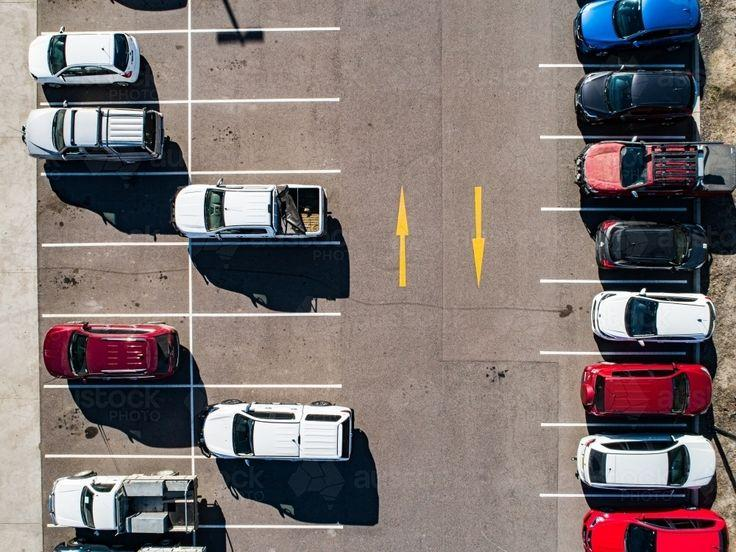car: (530, 274, 718, 358), (534, 420, 717, 504), (538, 348, 717, 432), (530, 135, 711, 217), (535, 204, 711, 286), (535, 63, 704, 146), (185, 381, 351, 465), (36, 453, 196, 540), (31, 309, 196, 393), (185, 166, 349, 250), (30, 100, 195, 178), (35, 28, 195, 108)
